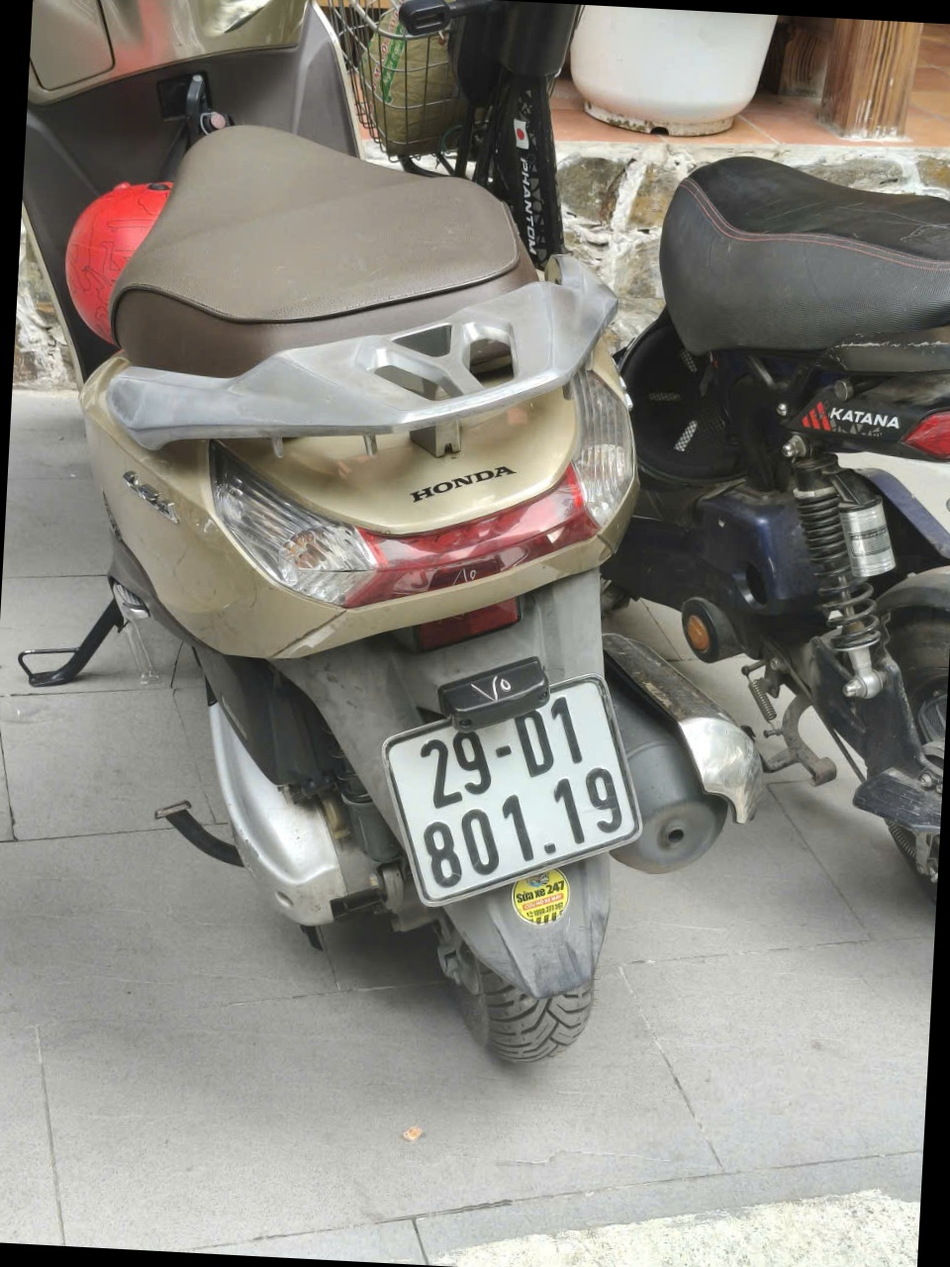plate: (794, 398, 904, 439)
